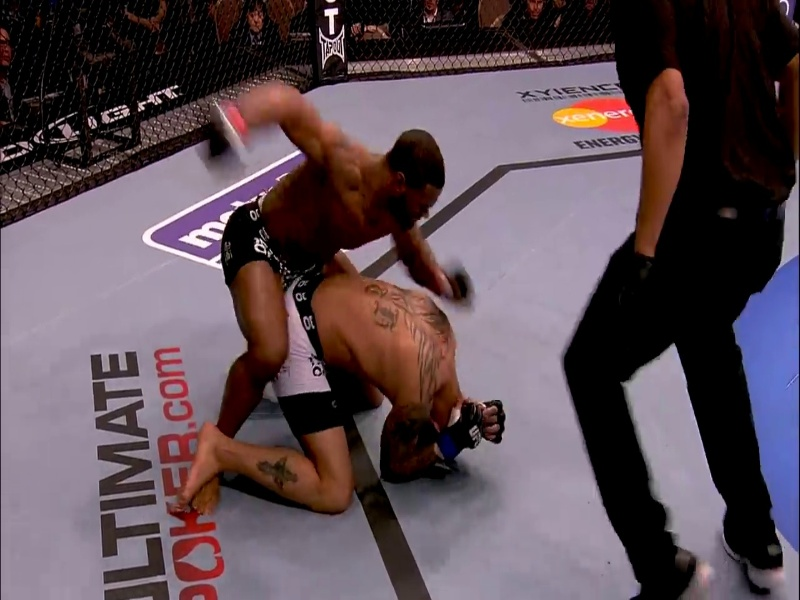fighter: (179, 72, 474, 443), (172, 264, 514, 541)
